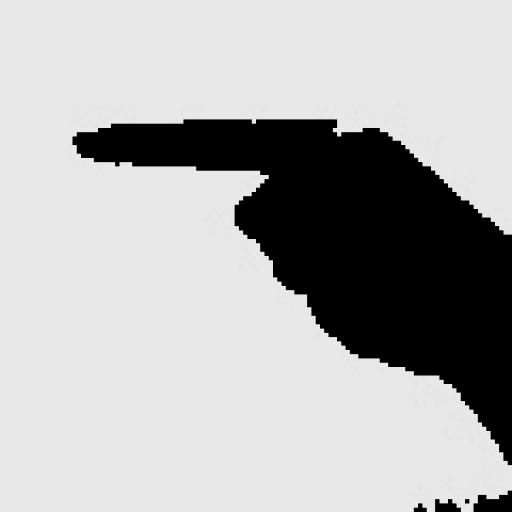index_right: (73, 115, 512, 323)
